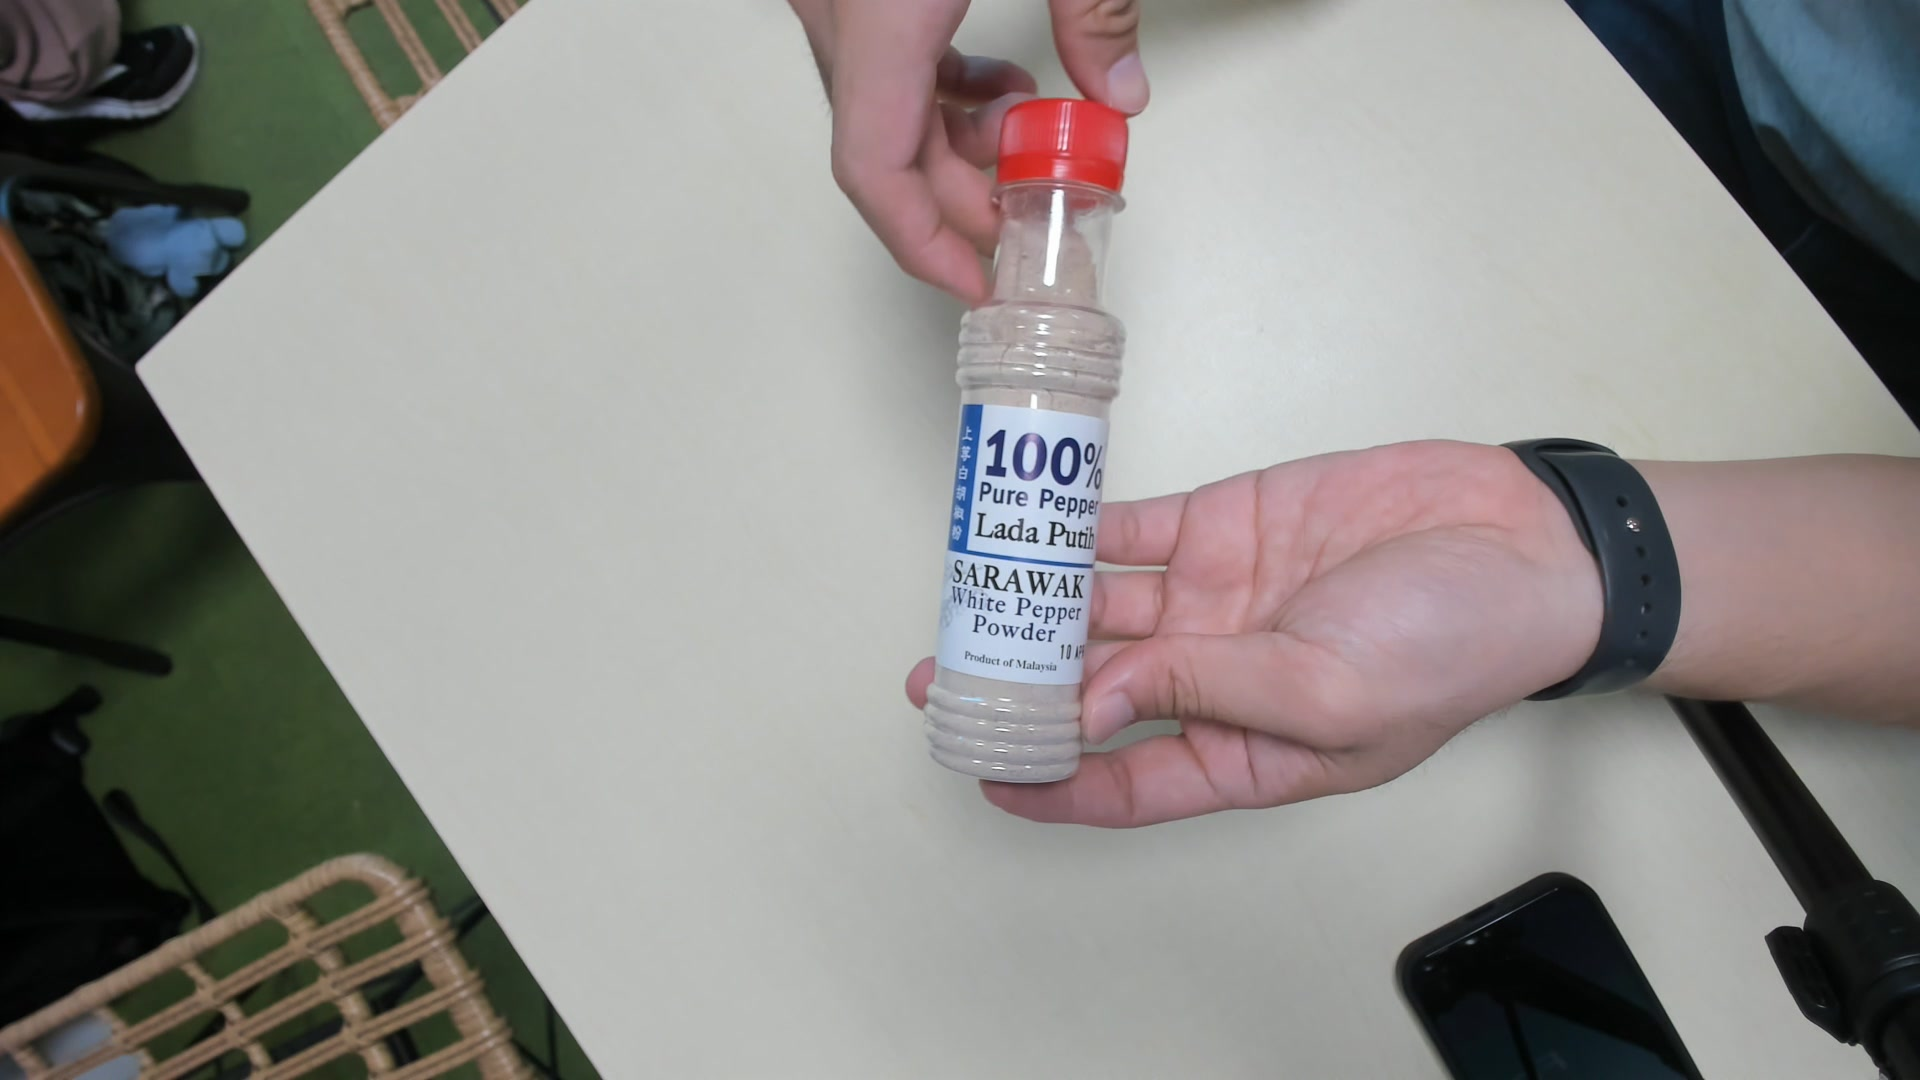HerbsSpicesPepper_0-99g_NonHalal_NonHealthy: (928, 88, 1139, 787)
